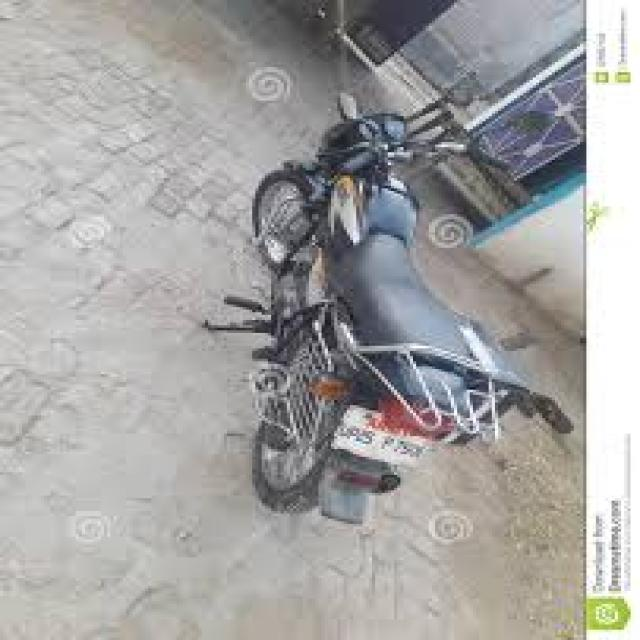Bike: (244, 93, 511, 516)
